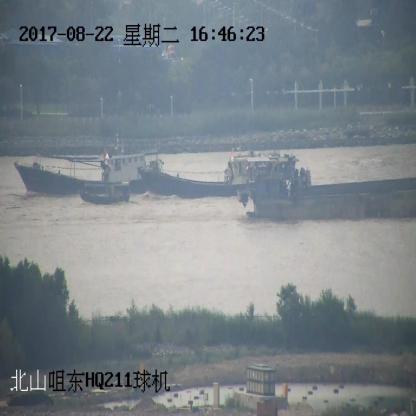Bulk Carrier: (238, 154, 416, 221)
